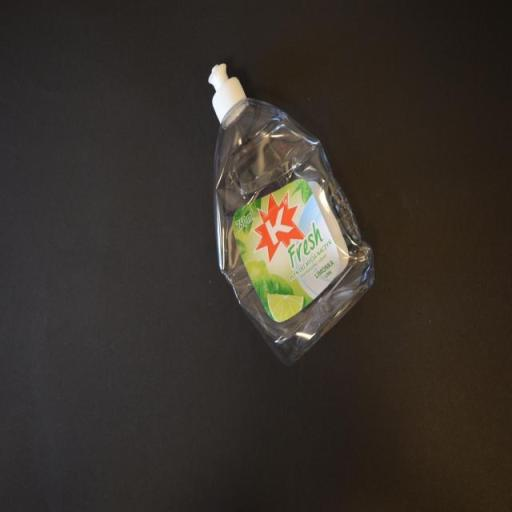plastic: (208, 62, 376, 370)
